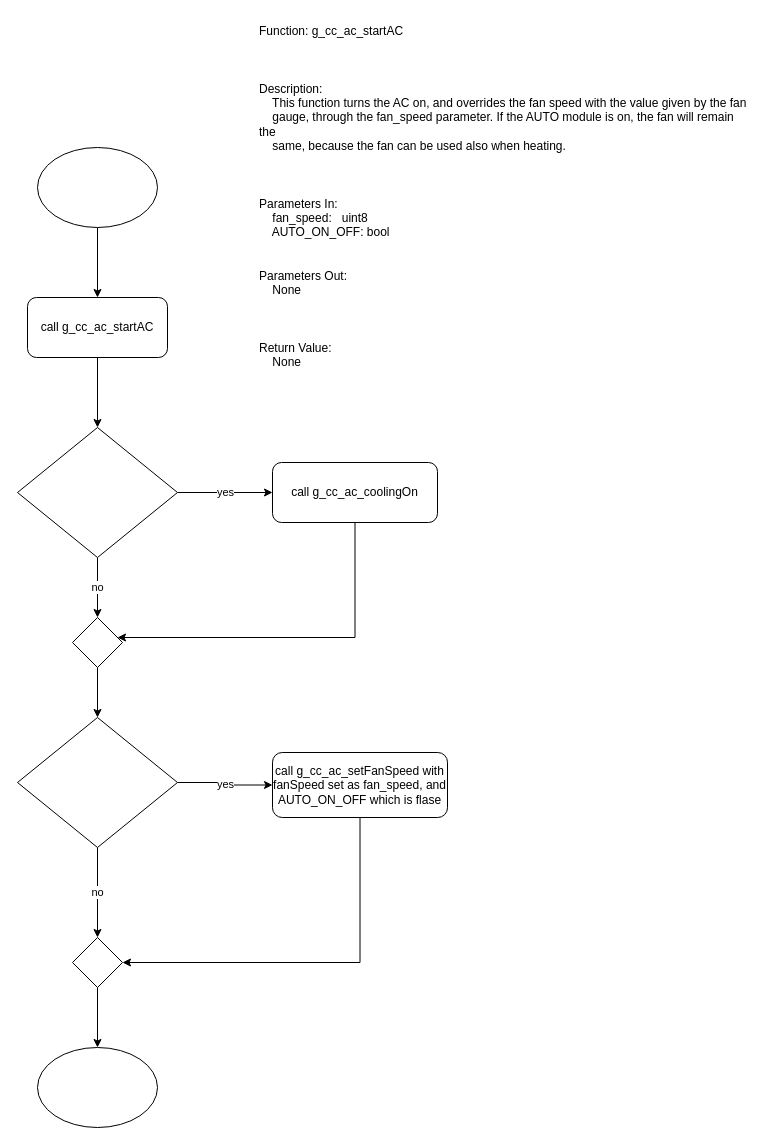
Image size: 765x1145. Some labels were removed from this diagram. The shapes that lost their labels are listed below. From the top down, each one's box as (x1, y1, x2, y2) in pixels, then its label:
(16, 426, 178, 558): if AC_ON_OFF is true
(16, 716, 178, 848): if AC_ON_OFF is true and AUTO_ON_OFF is false
